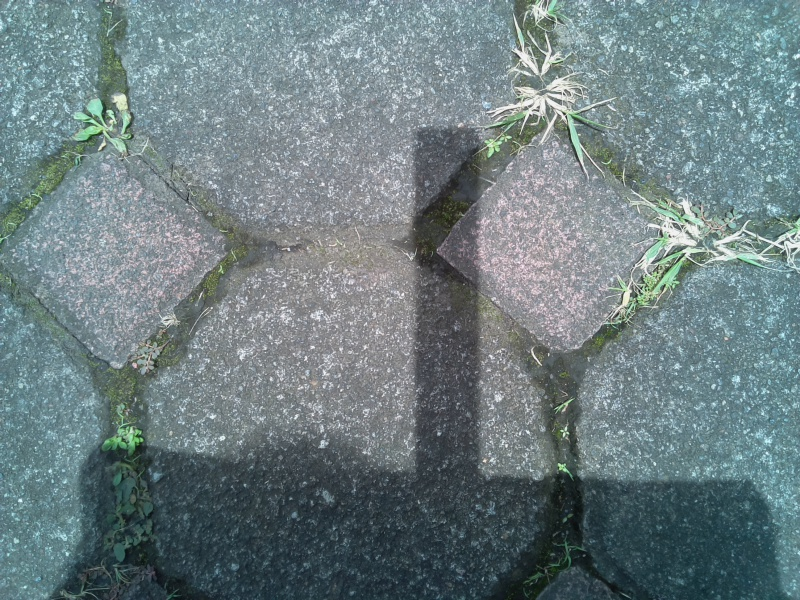Weed: (486, 49, 603, 152), (634, 197, 763, 285), (100, 422, 165, 554), (70, 96, 138, 158), (519, 532, 582, 589), (607, 271, 661, 330), (128, 337, 167, 381)
